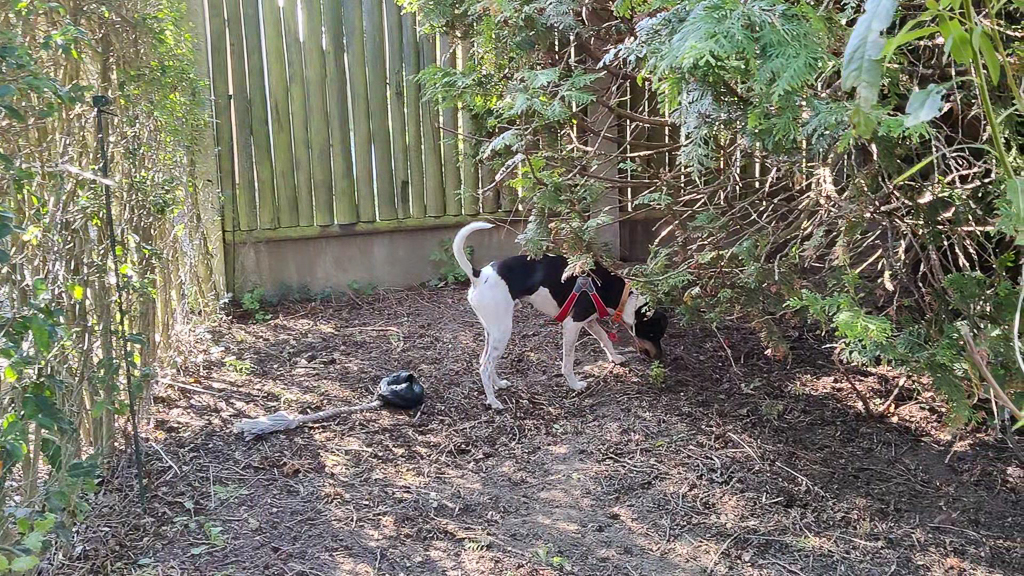Dog: (442, 209, 681, 418)
